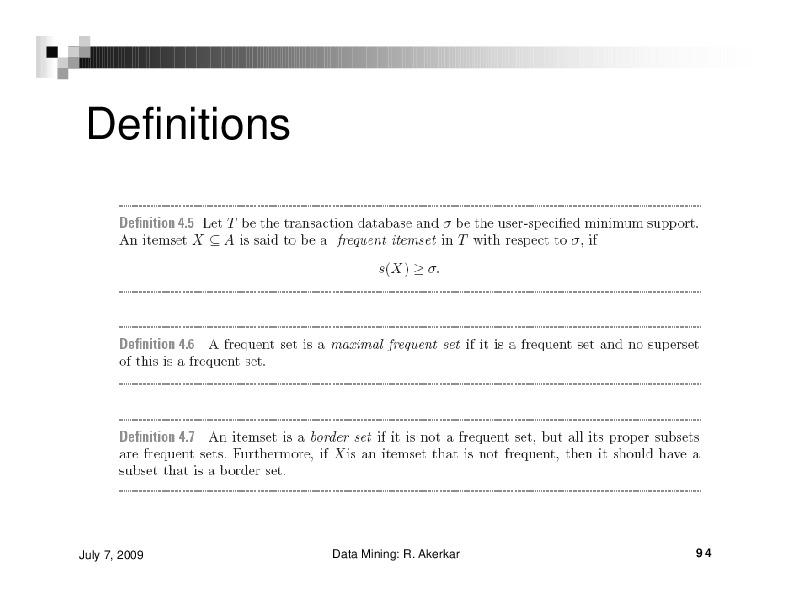paragraph: (107, 193, 747, 499)
title: (80, 93, 299, 153)
